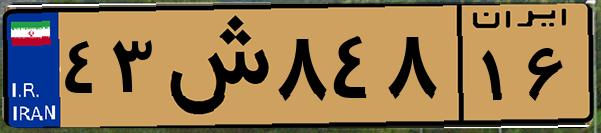1: (475, 38, 525, 113)
3: (110, 28, 158, 98)
4: (330, 28, 385, 110), (57, 26, 110, 100)
6: (525, 38, 570, 115)
8: (270, 28, 330, 110), (385, 28, 445, 110)
ش: (158, 12, 270, 120)
